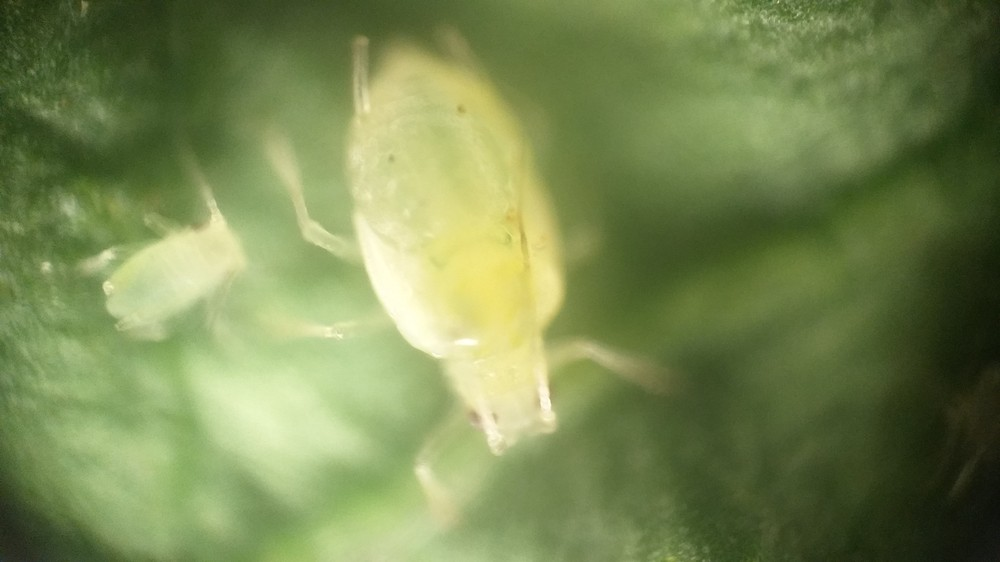Pulgon: (266, 27, 735, 535), (77, 167, 275, 354)
